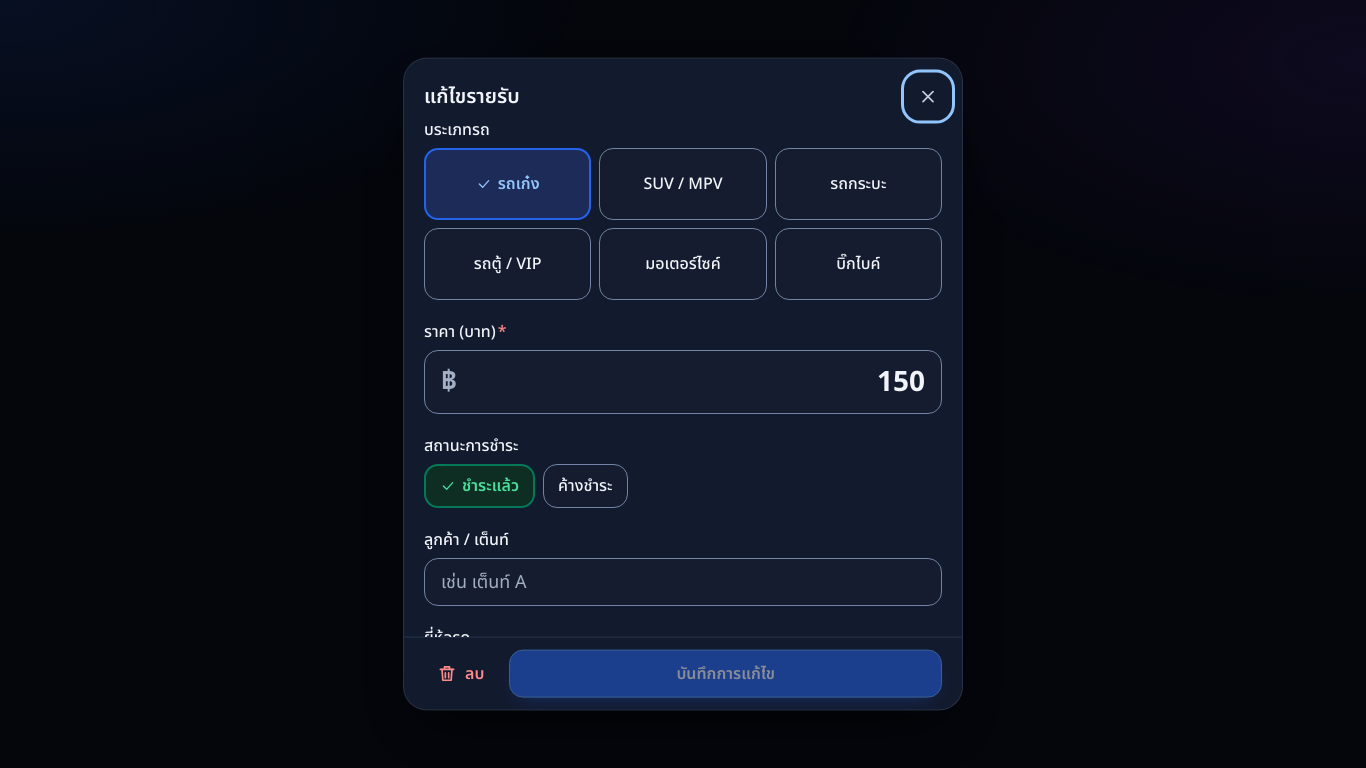
Test case: EditRecordDialog › saves only the changed field, guarded by updated_at (ADR-07), closing at once (ADR-30)
This screenshot has width=1366, height=768.
(page scrolled)
Replace the text in the field labelled "ราคา (บาท)*" with "200" at (695, 382), box [465,351,925,413]
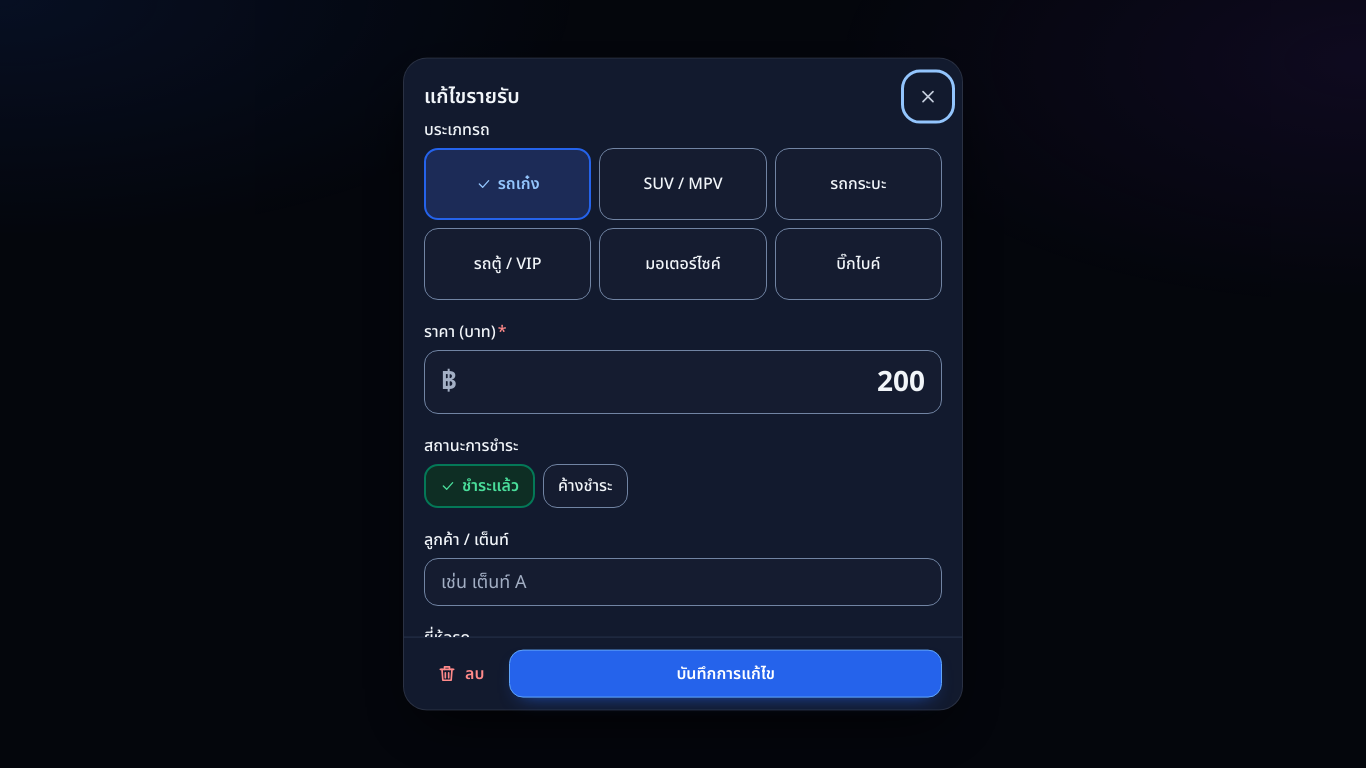
Click the button "บันทึกการแก้ไข" at (726, 673), box [509,649,942,697]
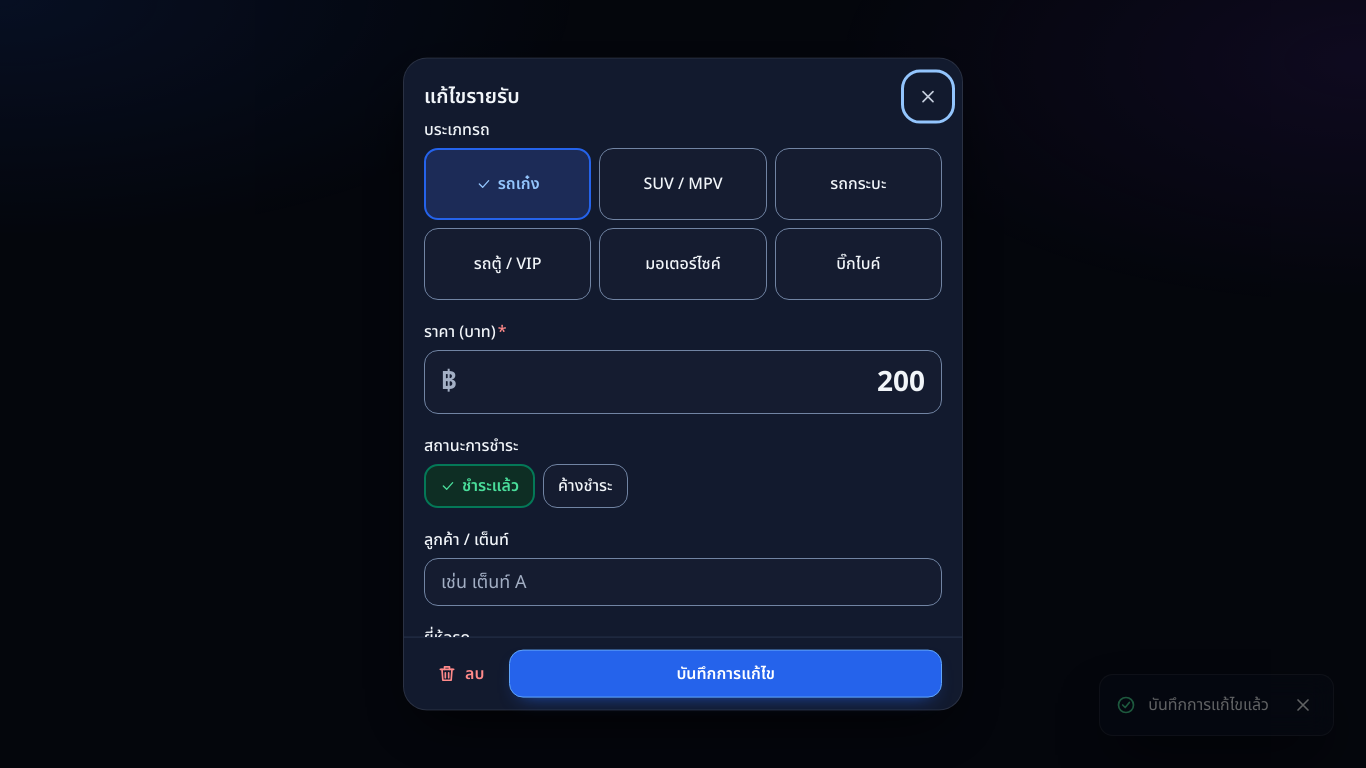
Now the message reads "บันทึกการแก้ไขแล้ว", box [1148,693,1269,717]
